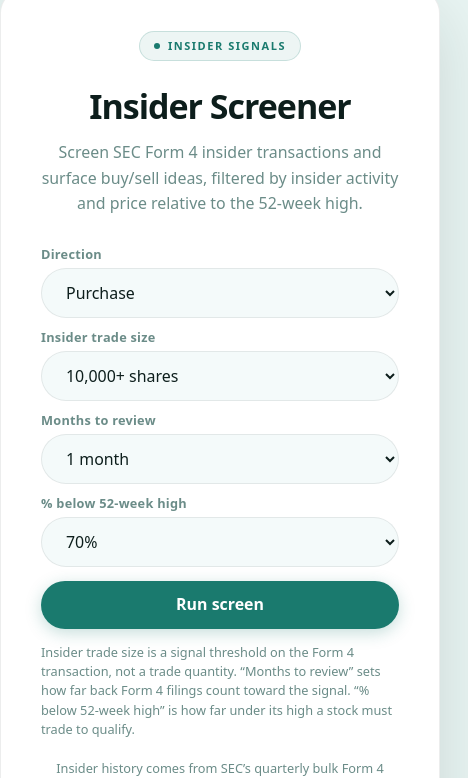
Test case: InsiderScreener results › shows a fallback message when the request itself fails
The image size is (468, 778).
Click the button "Run screen" at (220, 605), box [41,581,399,629]
(page scrolled)
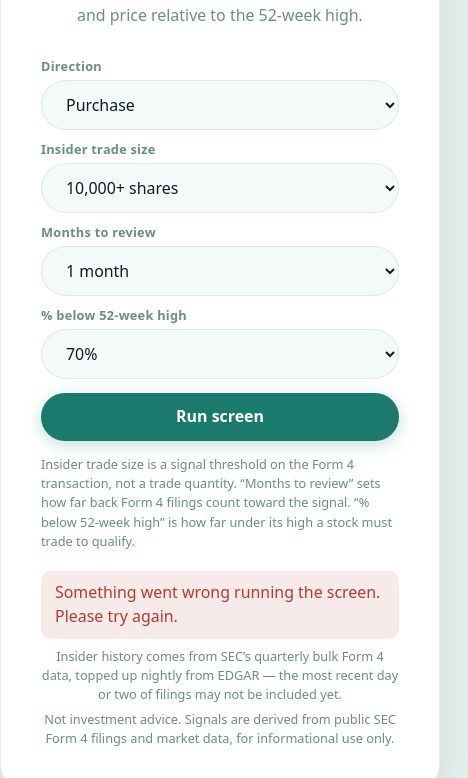
expect the message shows "Something went wrong running the screen": met, box [55,581,380,627]
